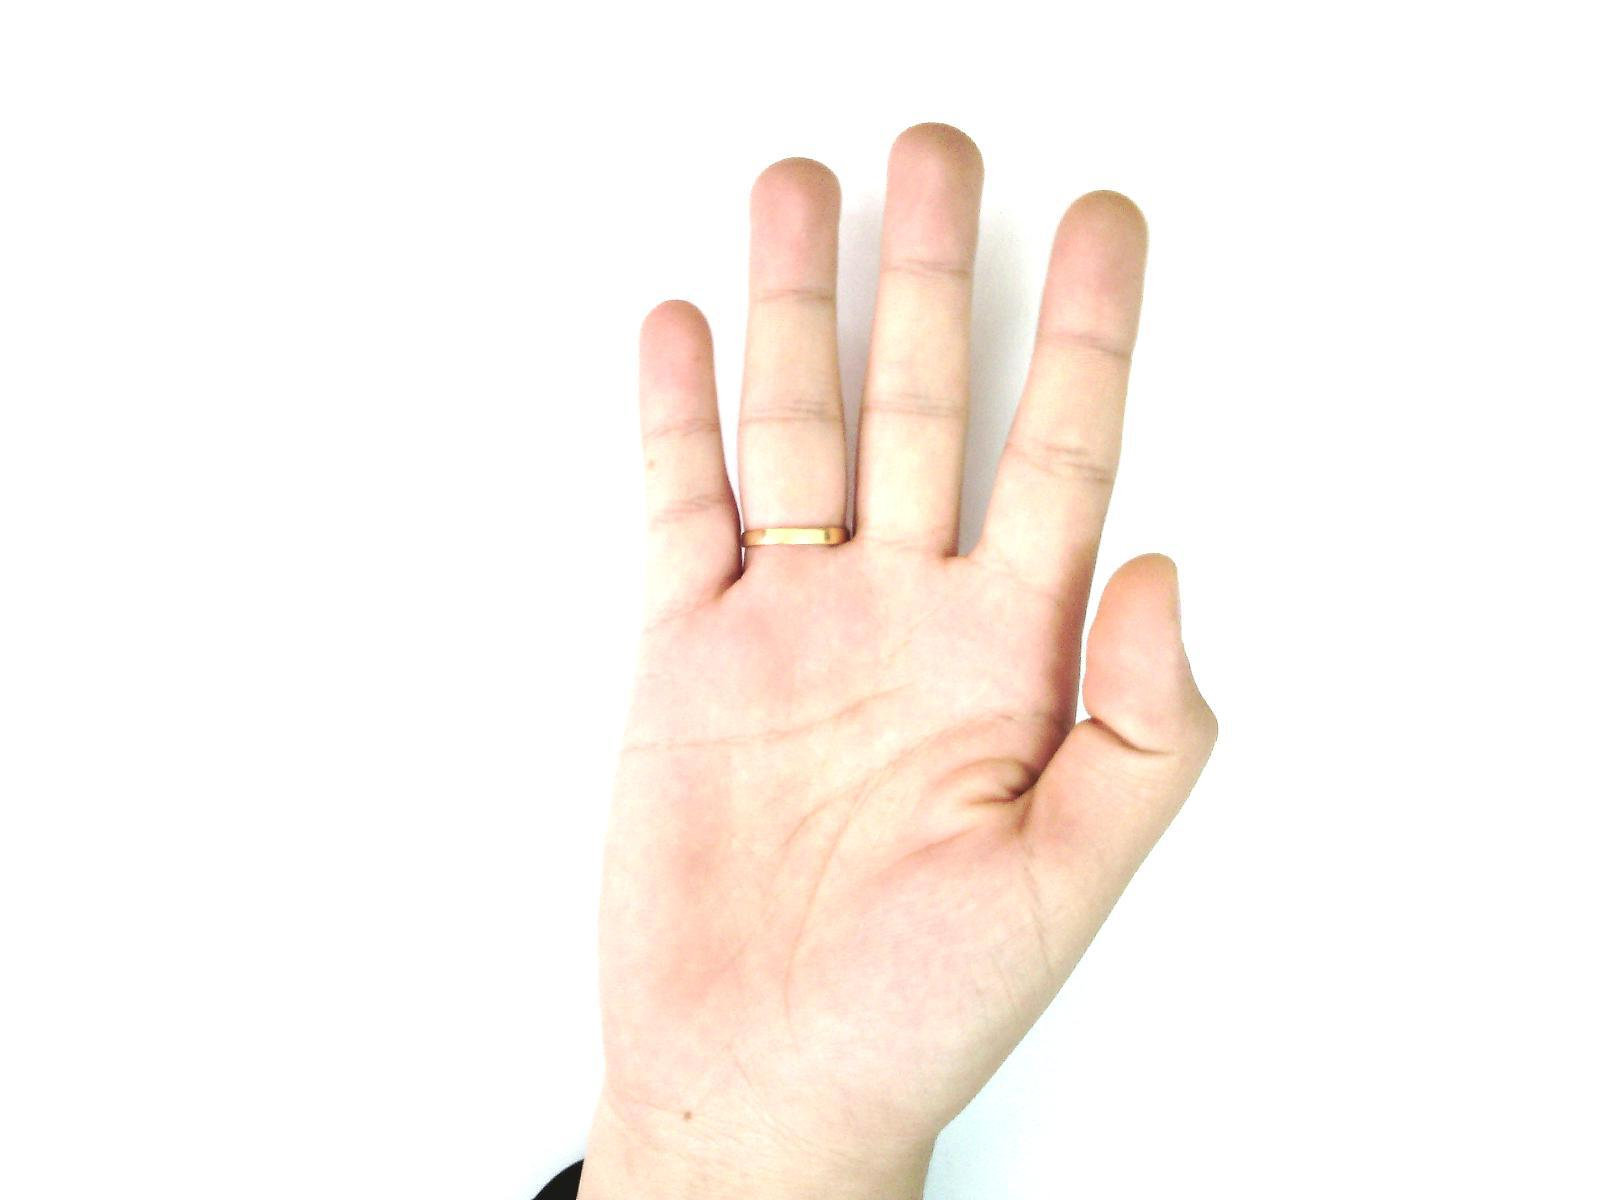hand: (567, 111, 1214, 1174)
